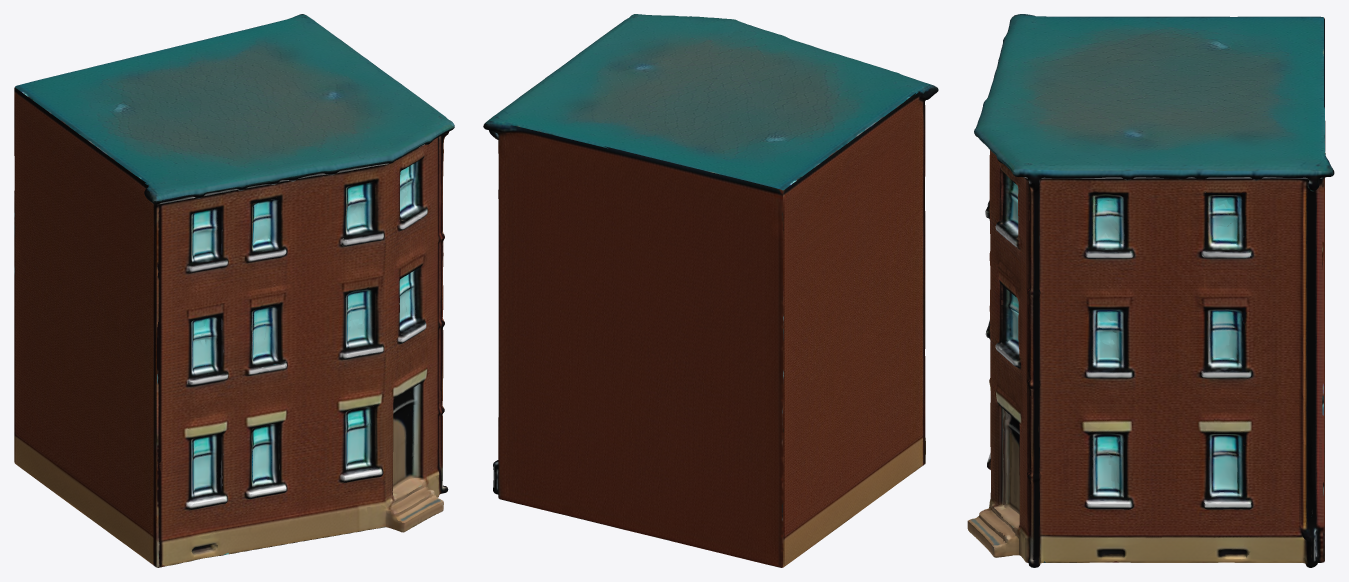
Rendered from house-row-house.glb.
The picture shows the model from 3 angles, left to right: view 1: azimuth 30°, elevation 25°; view 2: azimuth 150°, elevation 25°; view 3: azimuth 270°, elevation 25°; orthographic projection. The views are drawn at different scales.
Visible parts, largest first — view 1: tmpwzlererj.ply; view 2: tmpwzlererj.ply; view 3: tmpwzlererj.ply.
Boxes of the visible parts, x1,y1,x2,y2 form: tmpwzlererj.ply: (14, 14, 454, 567); tmpwzlererj.ply: (483, 14, 938, 567); tmpwzlererj.ply: (967, 14, 1334, 567).
Bounding box in the file's own units: 1.67 × 1.96 × 1.63.
1 material, 1 textured.
